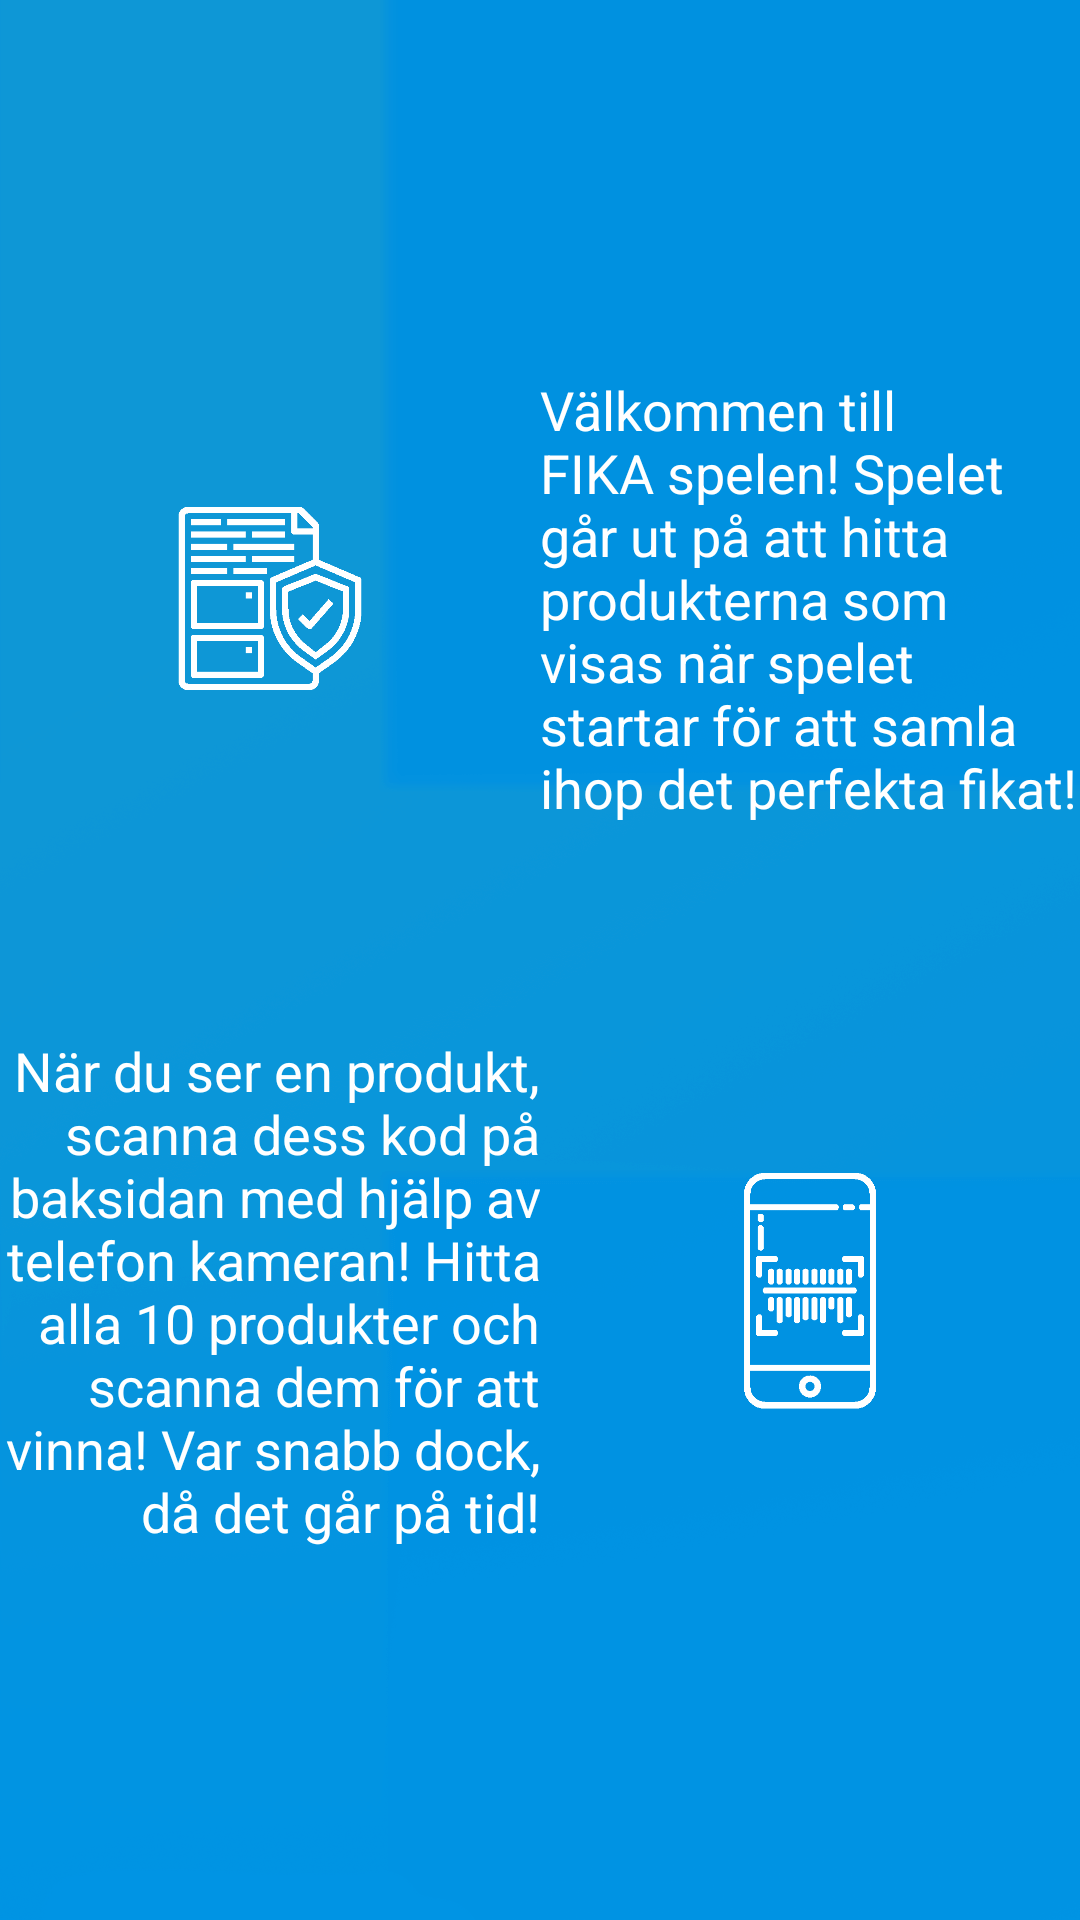

Named icons in this screenshot (1080px x 1920px) and their bounding boxes, {"left": x1, "top": y1, "right": x2, "bottom": y2}:
mobile: {"left": 744, "top": 1173, "right": 876, "bottom": 1409}
rules: {"left": 178, "top": 507, "right": 362, "bottom": 690}
